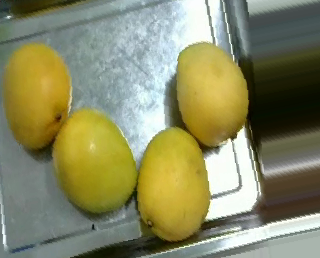Mango: (50, 108, 139, 216), (1, 40, 77, 153), (137, 125, 210, 240), (176, 40, 250, 146)
